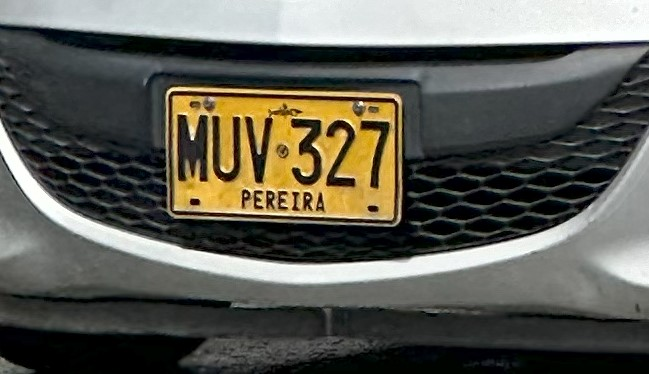number plate: (166, 87, 401, 225)
